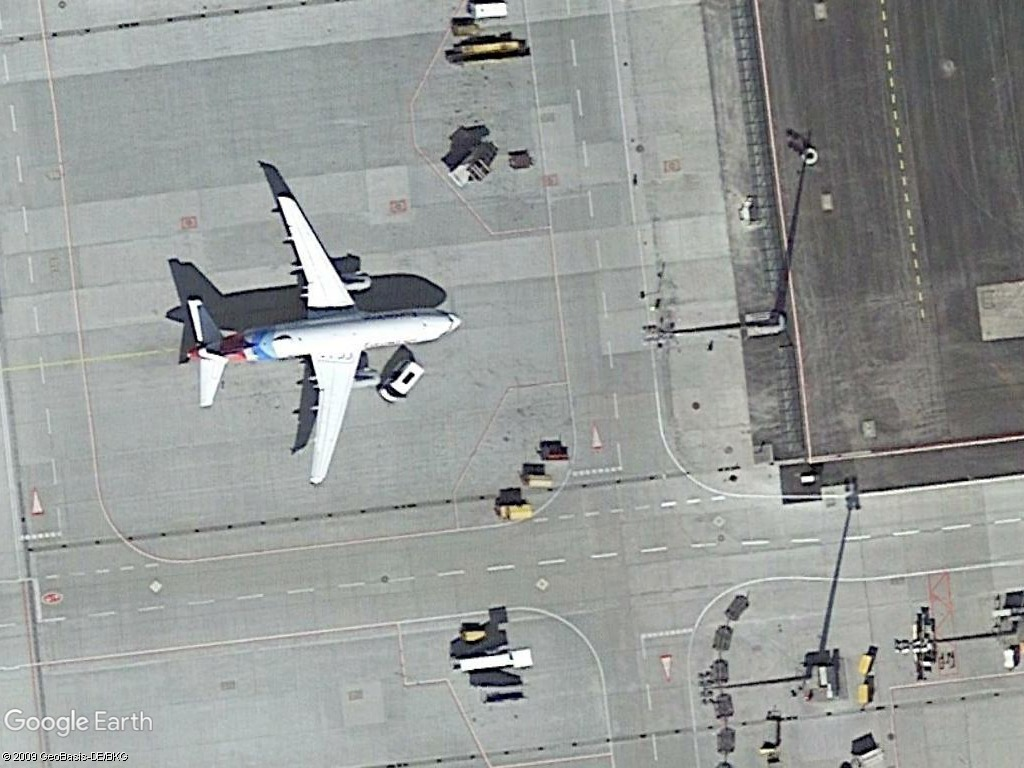airliner: (171, 188, 465, 490)
van: (375, 356, 425, 406)
